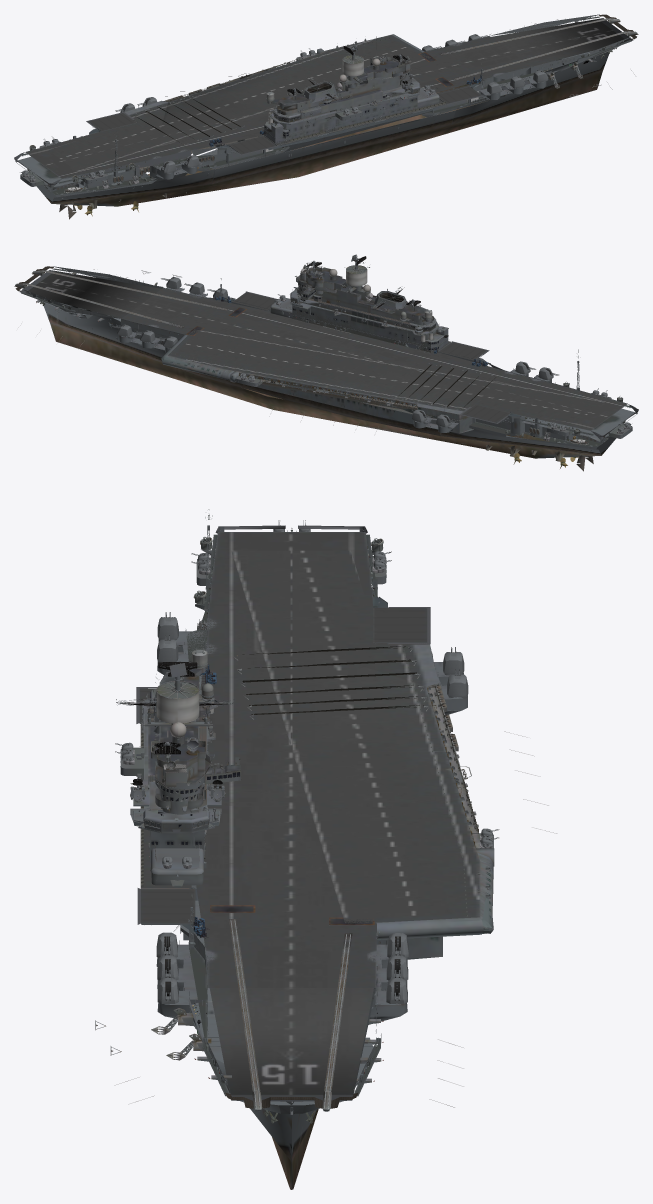
3 views of the same model, one above another, from view 1: azimuth 30°, elevation 25°; view 2: azimuth 150°, elevation 25°; view 3: azimuth 270°, elevation 25° (orthographic). The views are drawn at different scales.
Visible parts, largest first — view 1: root; view 2: root; view 3: root.
Boxes of the visible parts, x1,y1,x2,y2 form: root: (14,14,638,219); root: (14,254,638,471); root: (95,509,557,1189).
Bounding box in the file's own units: 320 × 66.67 × 106.
83 materials, 83 textured.
